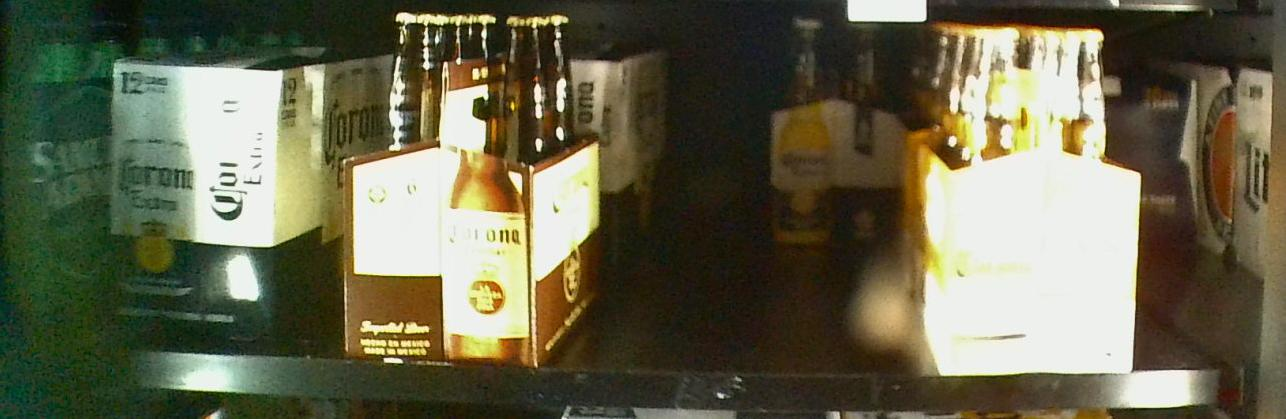bottle: (345, 11, 598, 360), (931, 30, 1135, 375), (109, 61, 310, 347), (770, 8, 888, 245)
